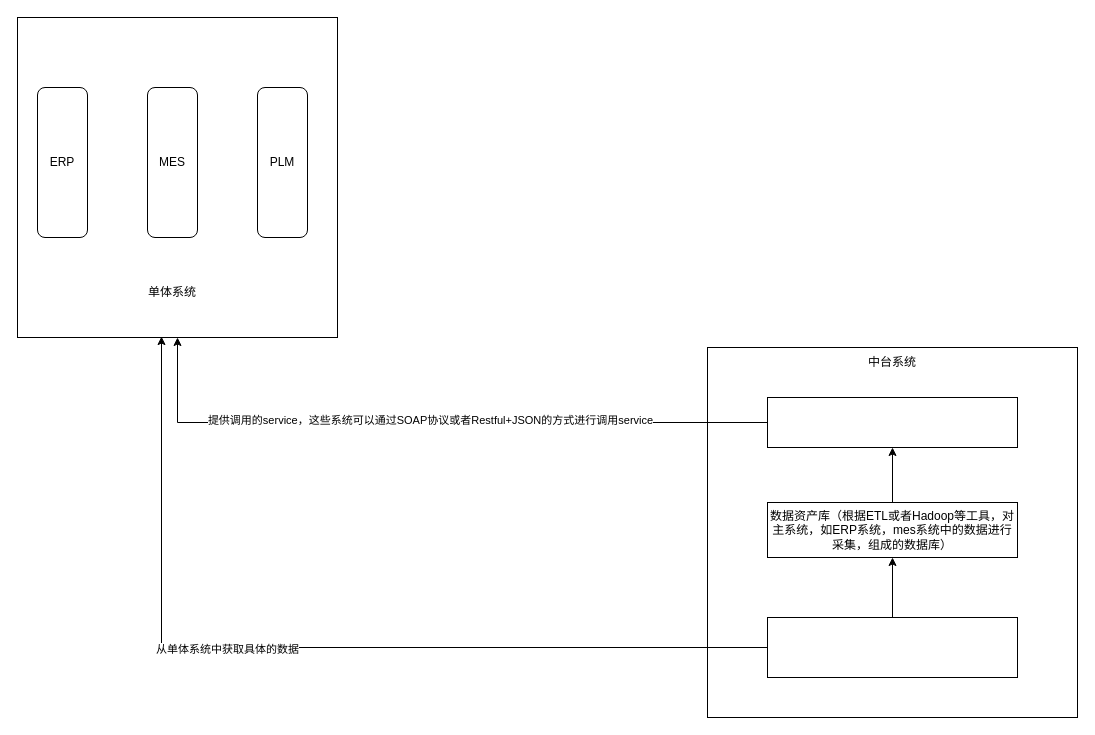
Image size: 1095x735. Some labels were removed from this diagram. The shapes that lost their labels are listed below. From the top down, each one's box as (x1, y1, x2, y2) in pixels, then its label:
(766, 396, 1018, 448): 数据服务层（也就是二开做的插件：主要是做接受数据的xml处理，已经数据库处理和返回信息）
(766, 616, 1018, 678): ETL、Hadoop进行数据清洗，采集
